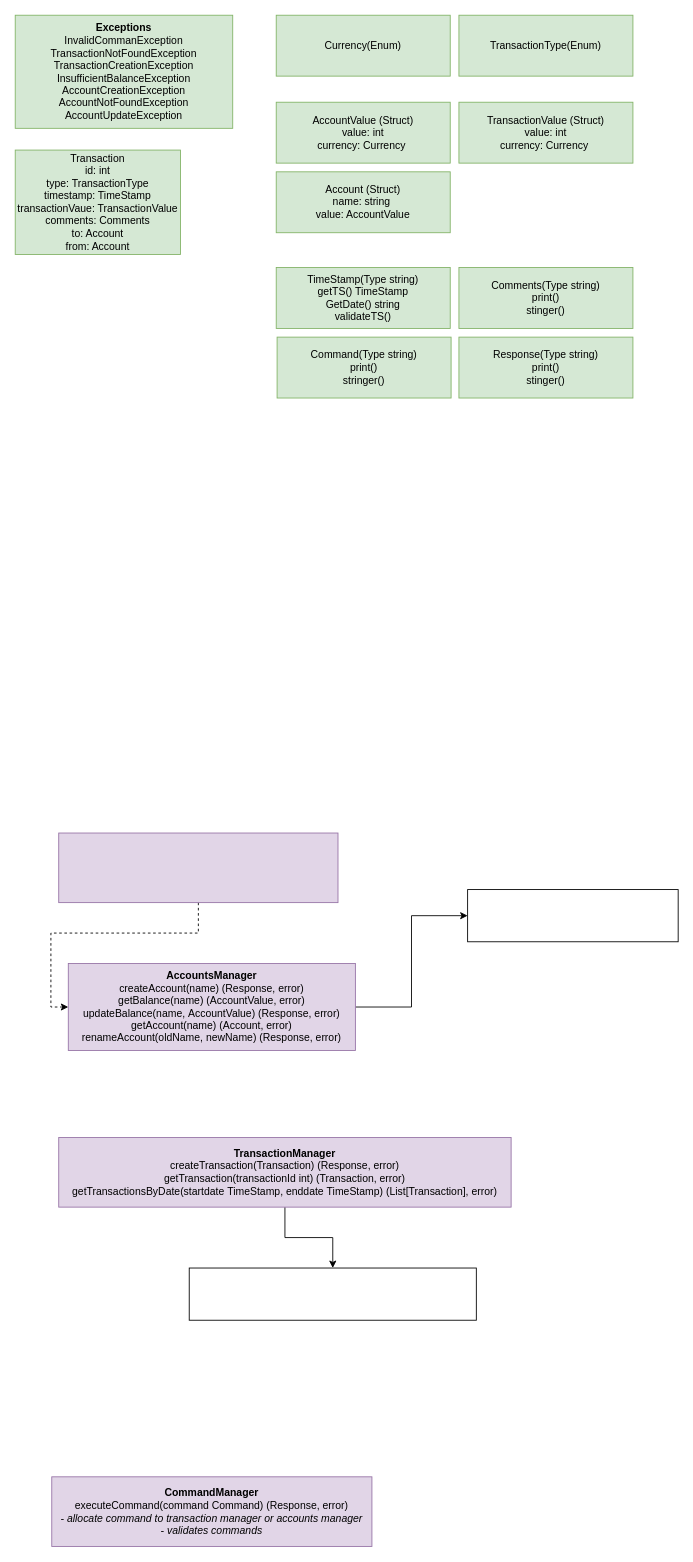
This 693x1562 diagram has some shape labels left out. Each missing label, with the centre of its shape:
Account Table account_name, timestamp, accountValue: point 572,915
AccountsUpdater updateBalance(name, AccountValue) (Response, error): point 198,867
Transaction Table transactionId, timestamp, type, to, from, comments: point 332,1293
